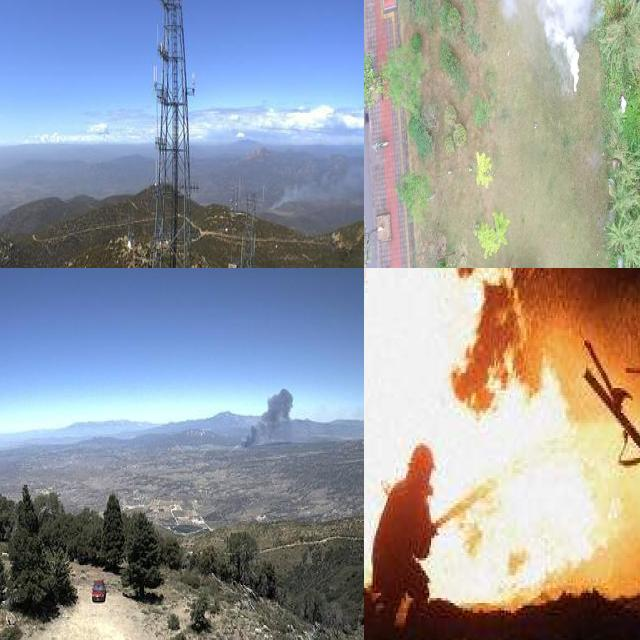fire: (364, 268, 620, 599)
smoke: (265, 157, 364, 213), (539, 0, 598, 89), (231, 384, 295, 449)
